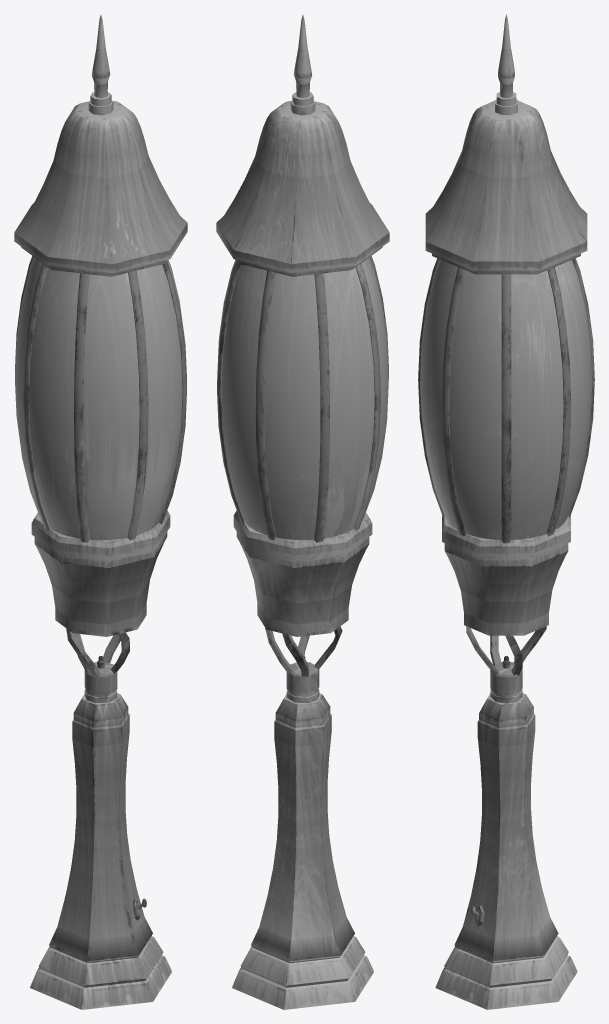
File: lamp.obj
The picture shows the model from 3 angles, left to right: view 1: azimuth 30°, elevation 25°; view 2: azimuth 150°, elevation 25°; view 3: azimuth 270°, elevation 25°; orthographic projection.
Parts seen in each view (by area): view 1: Lamp_01_Malla, Lamp_01.001_Malla.001; view 2: Lamp_01_Malla, Lamp_01.001_Malla.001; view 3: Lamp_01_Malla, Lamp_01.001_Malla.001.
Part boxes in pixels (bbox=[...]): Lamp_01_Malla: bbox=[14, 15, 187, 915]; Lamp_01.001_Malla.001: bbox=[30, 715, 171, 1009]; Lamp_01_Malla: bbox=[216, 15, 389, 746]; Lamp_01.001_Malla.001: bbox=[232, 732, 373, 1009]; Lamp_01_Malla: bbox=[418, 14, 594, 987]; Lamp_01.001_Malla.001: bbox=[435, 722, 577, 1009].
Bounding box in the file's own units: 0.2751 × 1.66 × 0.2751.
